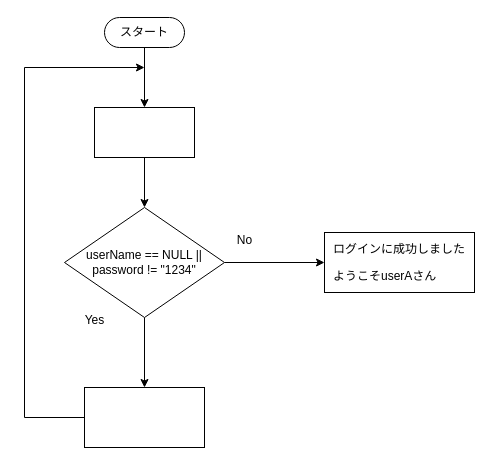
Image size: 492x465. Some labels were removed from this diagram. Each missing label, with the centre of its shape:
ログインに失敗しました: (x=144, y=417)
ログインボタンが入力される: (x=144, y=132)
